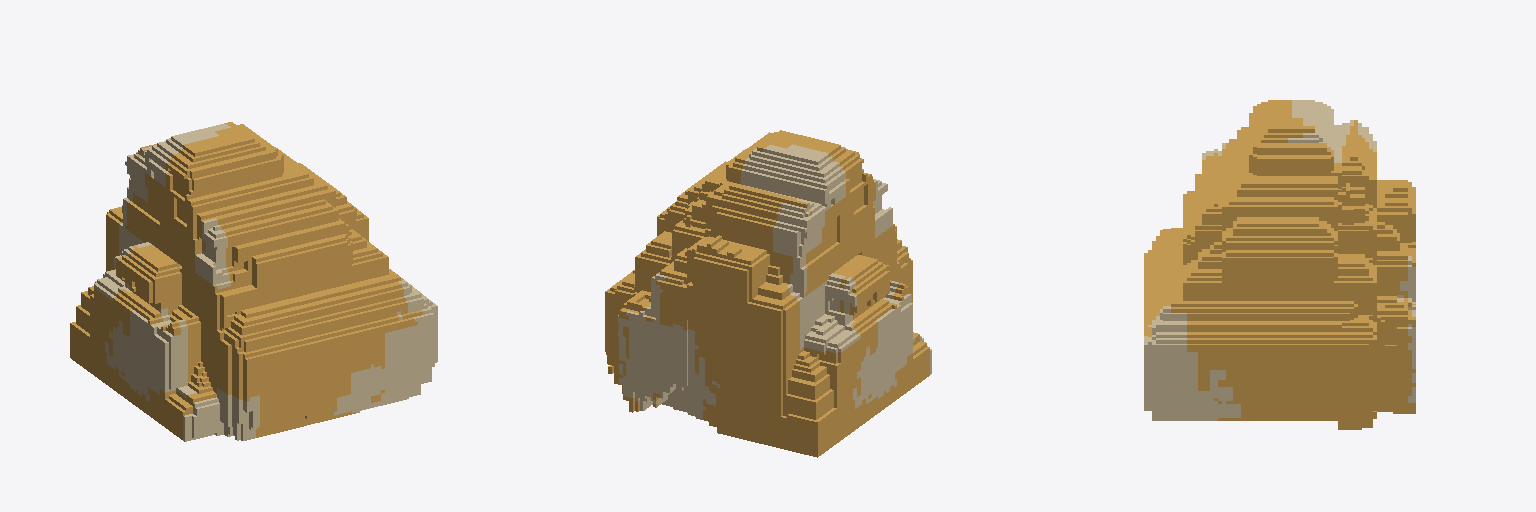
3 renders of one model, left to right at view 1: azimuth 30°, elevation 25°; view 2: azimuth 150°, elevation 25°; view 3: azimuth 270°, elevation 25°, orthographic.
Parts seen in each view (by area): view 1: object 1; view 2: object 1; view 3: object 1.
Part boxes in pixels (left/top/right/bottom): object 1: left=70, top=122, right=437, bottom=441; object 1: left=605, top=130, right=931, bottom=457; object 1: left=1144, top=100, right=1415, bottom=429.
Size of the model in its own units: 7 by 7 by 7.
Materials: 1 (1 with a texture image).